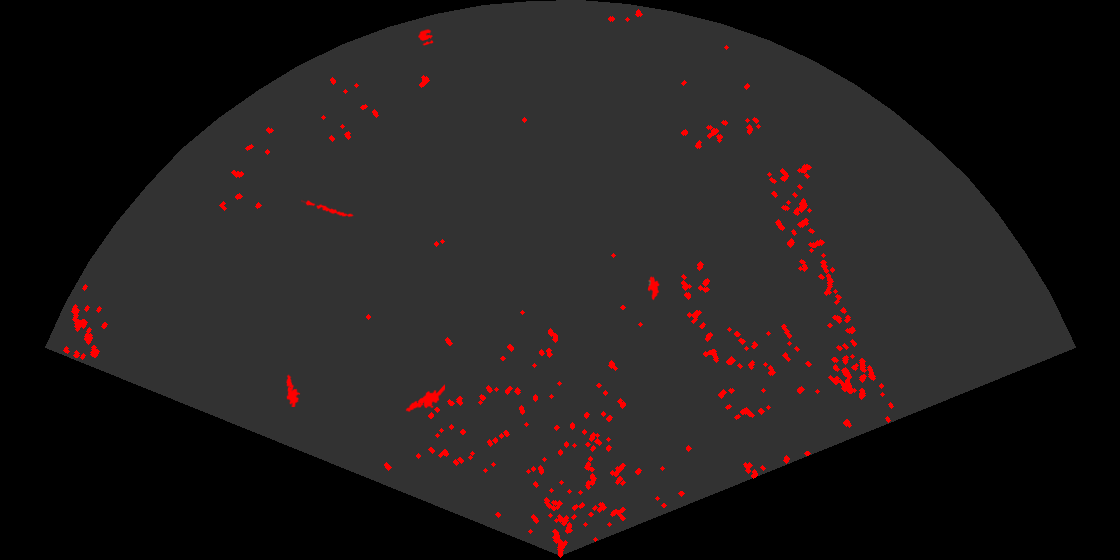AUV: (646, 275, 660, 302)
ball: (417, 27, 435, 47)
chain: (301, 198, 354, 219)
frogman: (404, 383, 445, 414), (285, 374, 302, 407)
